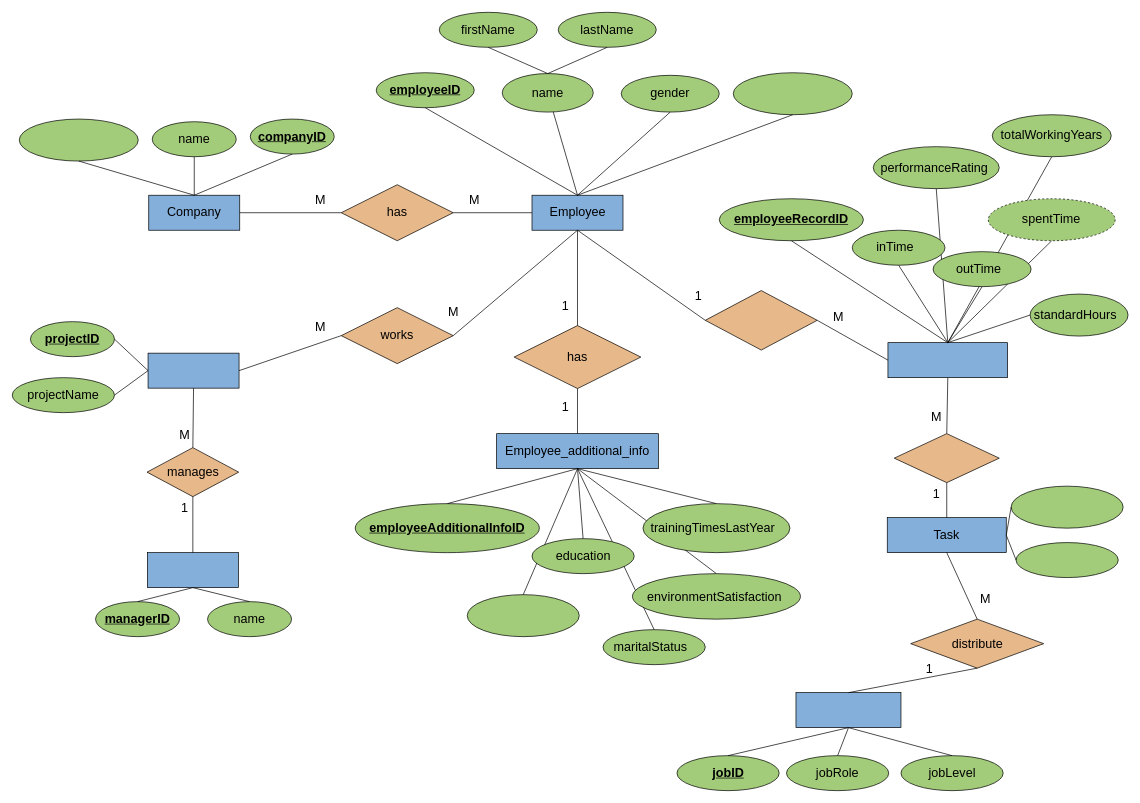
The diagram is 1140 pixels wide and 803 high, and some of its shapes have lost their labels. The centre of each missing label's shape, as x and y in pixels:
Employee_record: [947,360]
employeeNumber: [78,139]
Job: [848,710]
Manager: [192,570]
monthlyIncome: [523,615]
Project: [193,370]
record: [761,320]
set: [946,458]
taskDescription: [1066,506]
taskID: [1066,560]
yearsAtCompany: [792,93]
